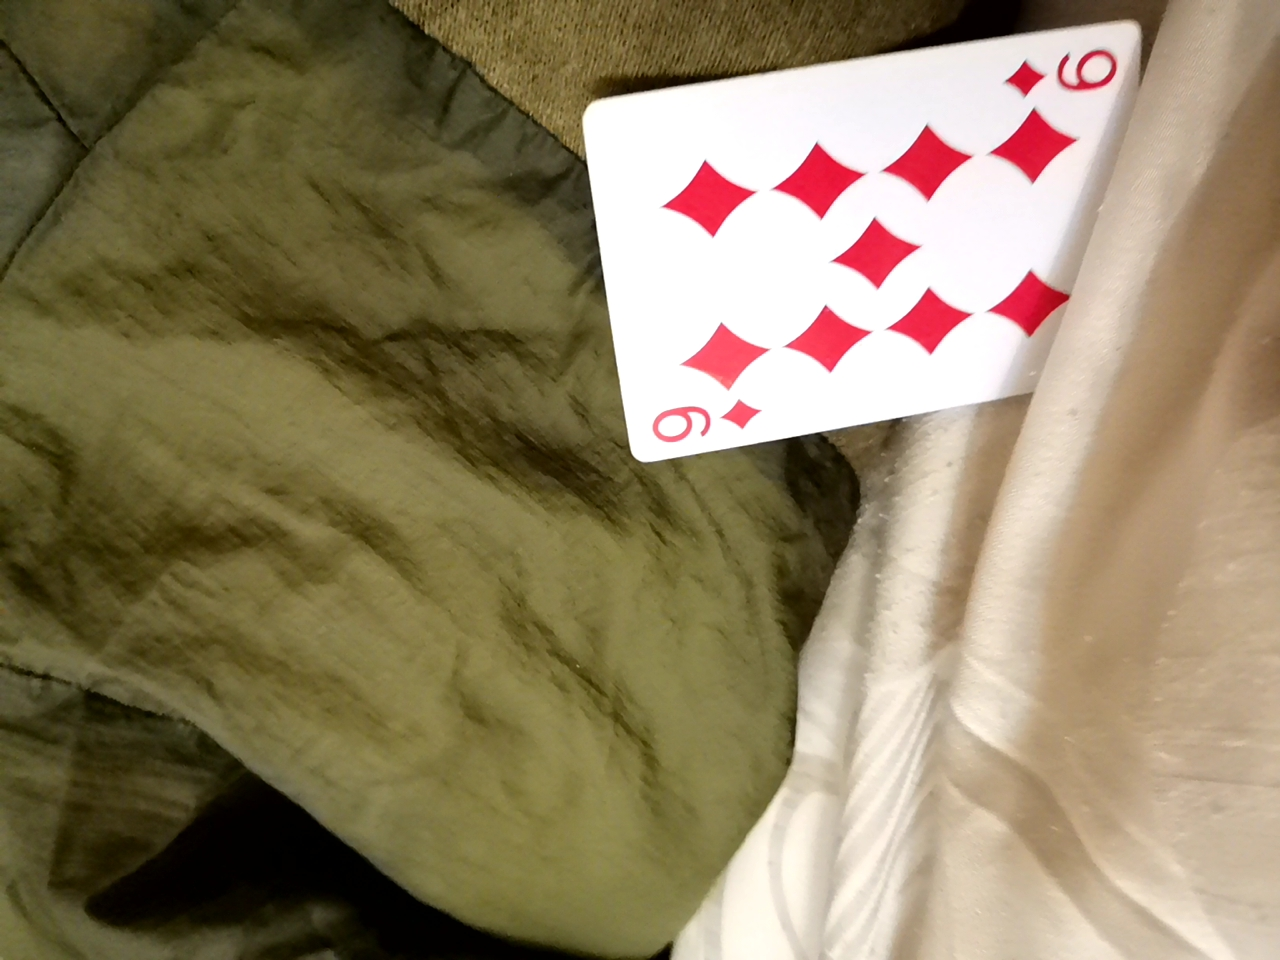fk 9: (591, 3, 1137, 426)
